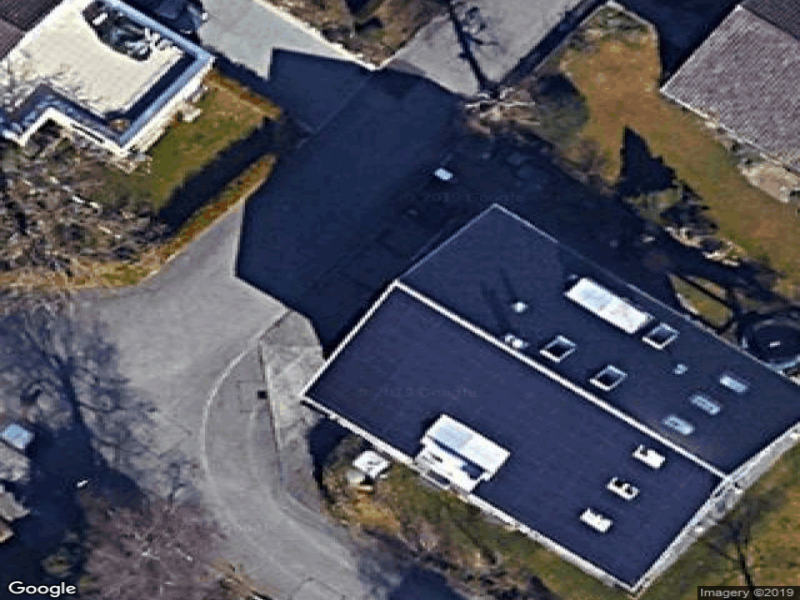pv: (309, 208, 800, 586)
